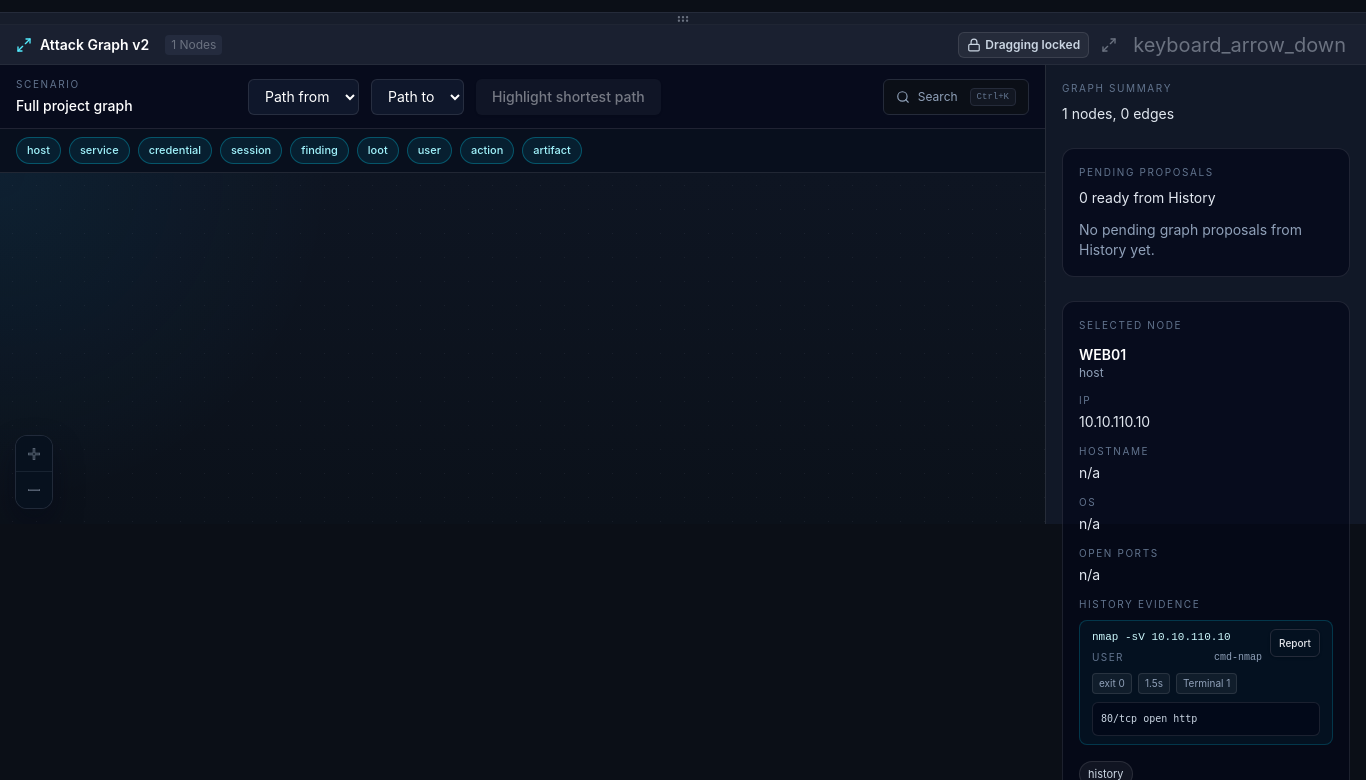
AttackGraph › marks graph evidence as already reported when the report API deduplicates it
The width and height of the screenshot is (1366, 780).
Step 1. Click the button with aria-label "add command cmd-nmap evidence to report" → (1295, 643), box top-left (1270, 629), bottom-right (1320, 657)
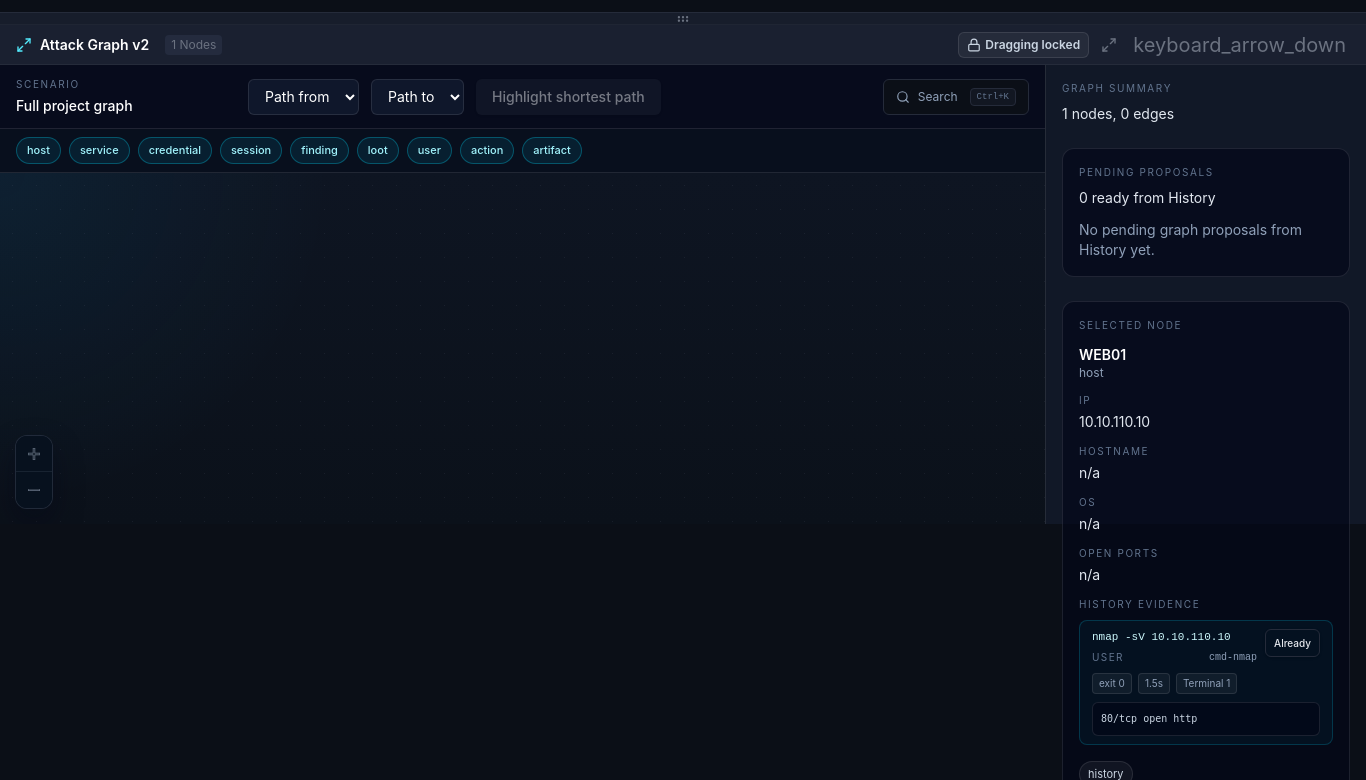
Expected: the button with aria-label "add command cmd-nmap evidence to report" reads "Already", top-left (1265, 629), bottom-right (1320, 657)
